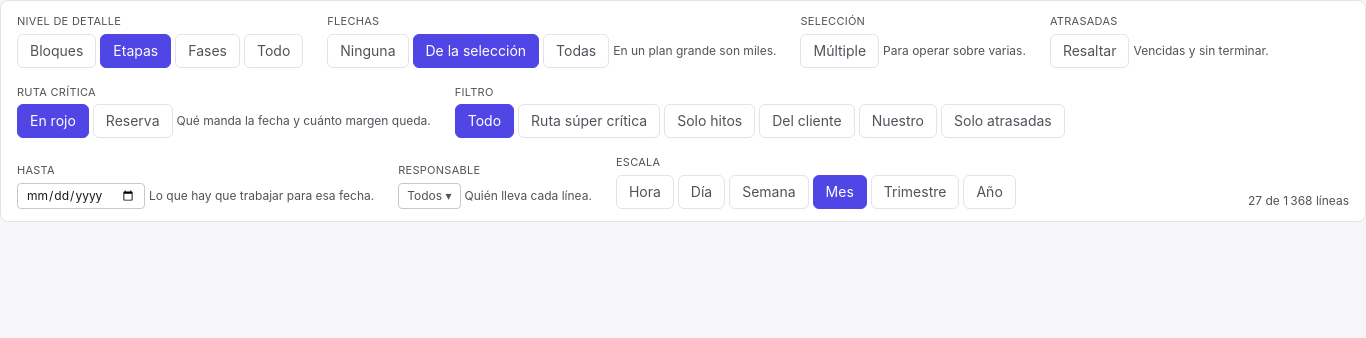
Test: El filtro por responsable › ofrece a cada persona con su carga
Click the button with test id "boton-responsables". click: (429, 196)
box: 398,182 -> 460,208
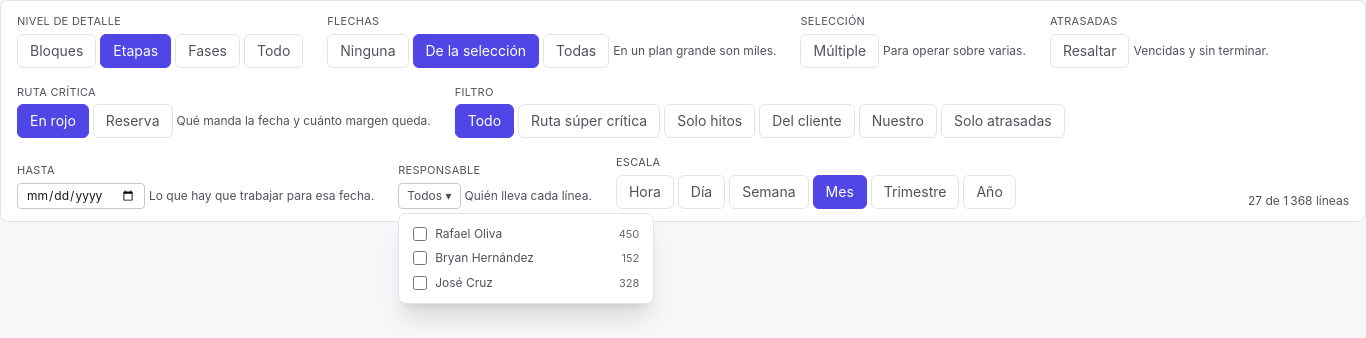
Expected: the text "Rafael Oliva" is shown, 435,226 -> 502,241
Expected: the text "450" is shown, 619,226 -> 639,242
